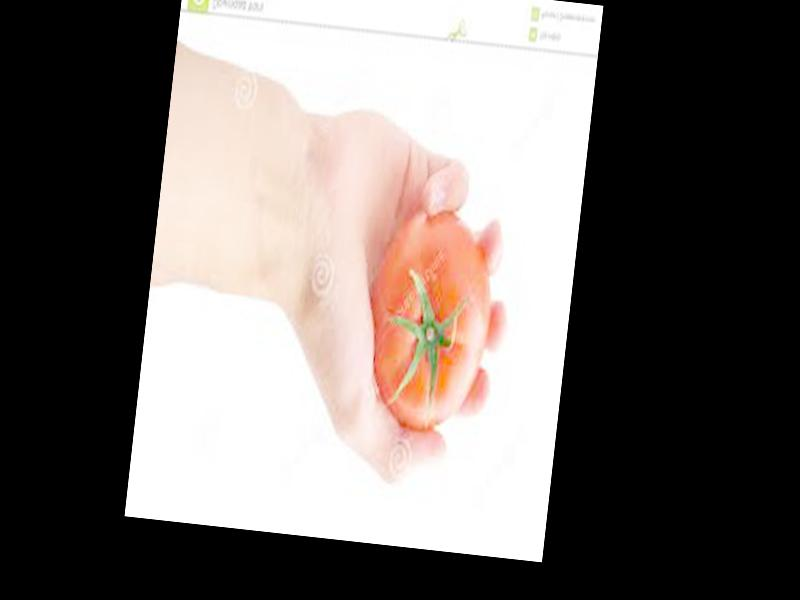Tomato: (361, 203, 500, 432)
